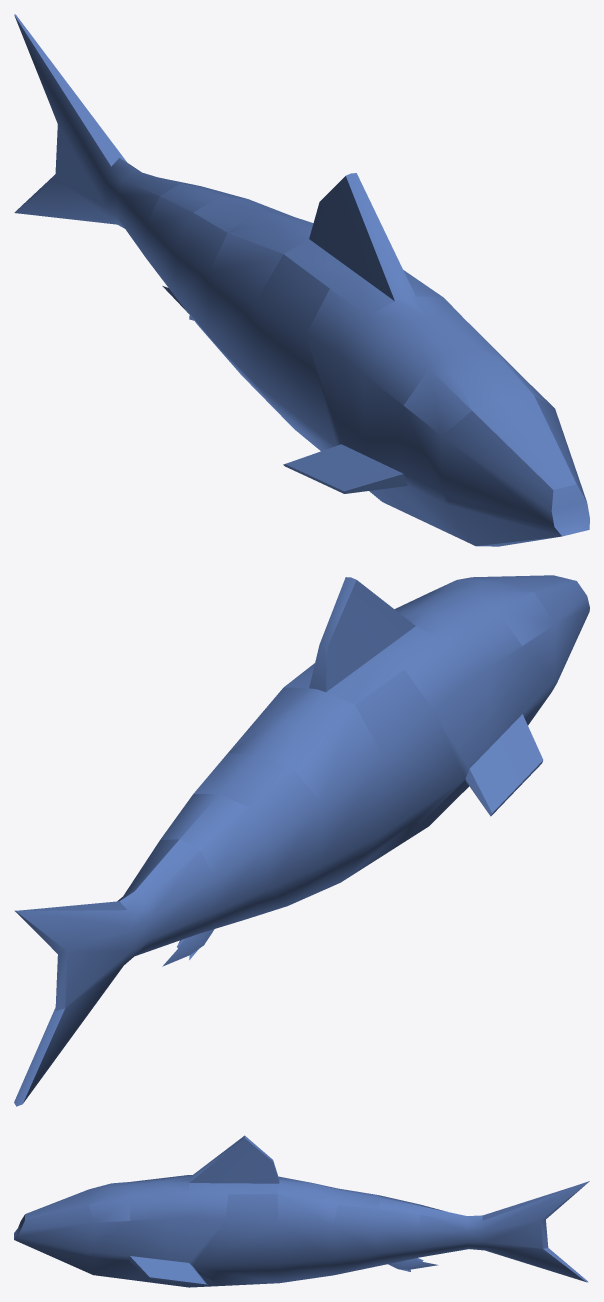
The model's file is herring_01.fbx.
The picture shows the model from 3 angles, top to bottom: view 1: azimuth 30°, elevation 25°; view 2: azimuth 150°, elevation 25°; view 3: azimuth 270°, elevation 25°; orthographic projection. The views are drawn at different scales.
Visible parts, largest first — view 1: Fish_mesh; view 2: Fish_mesh; view 3: Fish_mesh.
Part boxes in pixels (left/top/right/bottom): Fish_mesh: left=14, top=14, right=589, bottom=546; Fish_mesh: left=14, top=575, right=589, bottom=1106; Fish_mesh: left=14, top=1135, right=589, bottom=1287.
Size of the model in its own units: 126 by 168 by 589.
